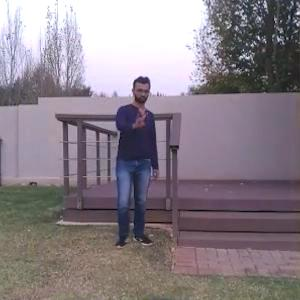takeoff-hand: (125, 104, 151, 132)
